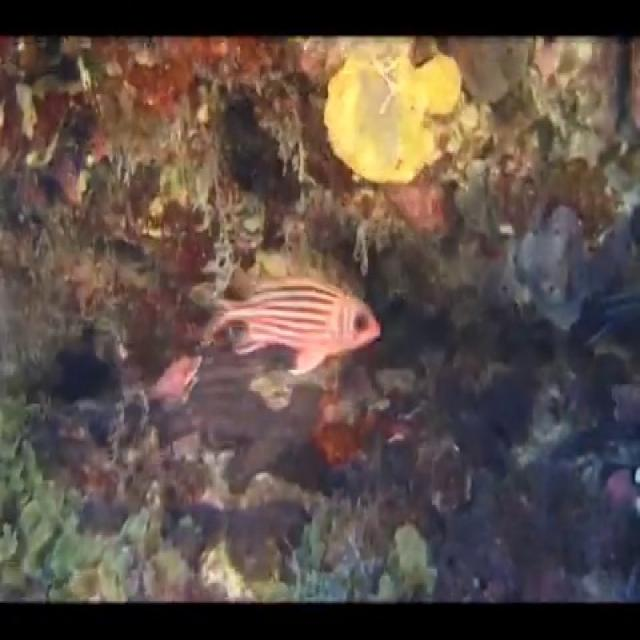Asker Baligi: (201, 274, 383, 378)
